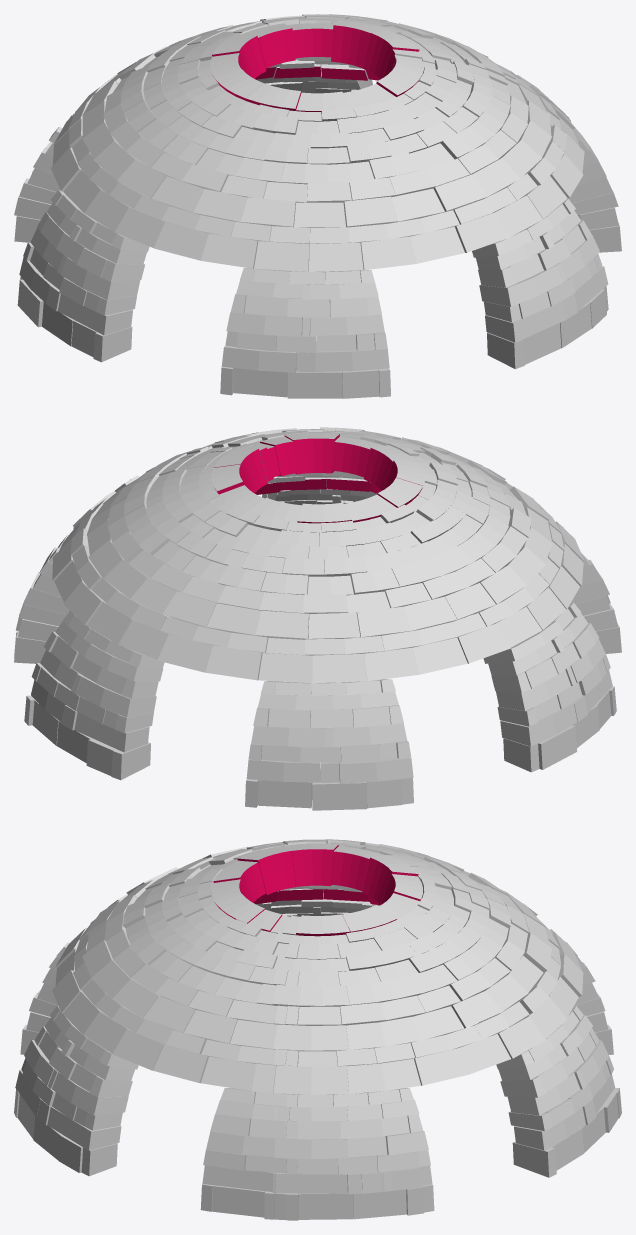
File: Dome.fbx
3 views of the same model, one above another, from view 1: azimuth 30°, elevation 25°; view 2: azimuth 150°, elevation 25°; view 3: azimuth 270°, elevation 25° (orthographic).
Visible parts, largest first — view 1: Wall.001; view 2: Wall.001; view 3: Wall.001.
Part boxes in pixels (bbox=[...]): Wall.001: bbox=[14, 14, 621, 398]; Wall.001: bbox=[14, 427, 621, 810]; Wall.001: bbox=[14, 839, 621, 1220].
Size of the model in its own units: 1243 by 1259 by 471.
